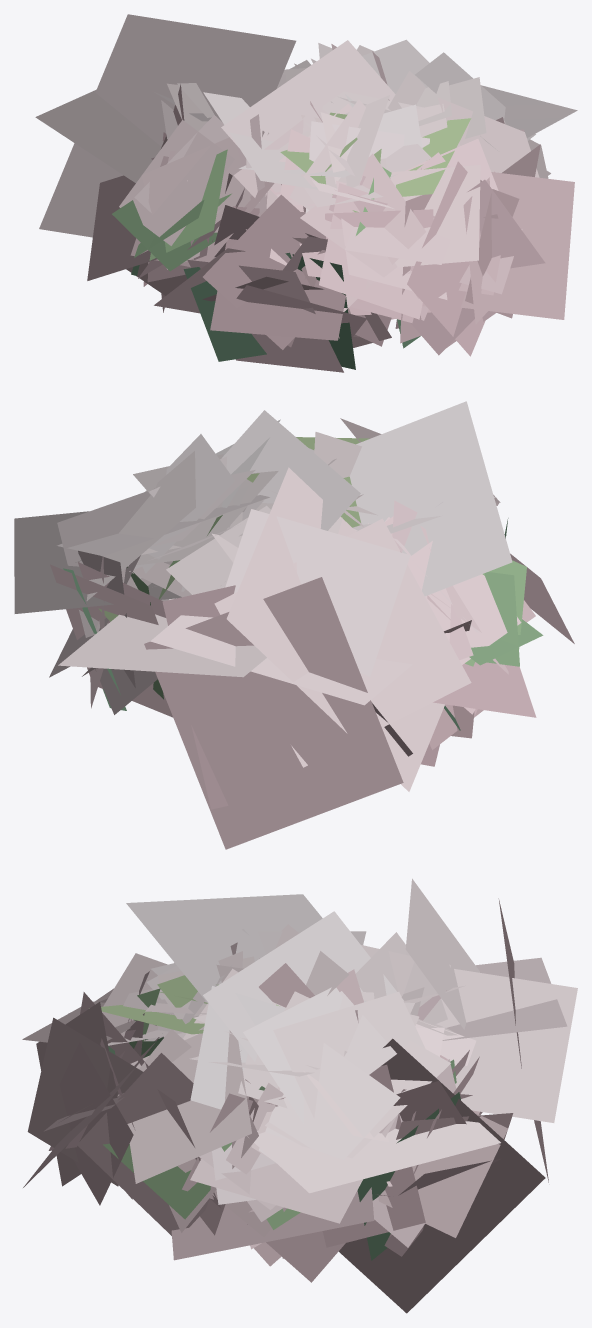
File: crab_apple_v3.glb
3 renders of one model, top to bottom at view 1: azimuth 30°, elevation 25°; view 2: azimuth 150°, elevation 25°; view 3: azimuth 270°, elevation 25°, orthographic. The views are drawn at different scales.
Visible parts, largest first — view 1: near, far; view 2: far, near; view 3: near, far.
Part boxes in pixels (x1,y1,x2,y2): near: (87, 39, 574, 372); far: (35, 14, 577, 312); far: (14, 401, 512, 849); near: (49, 418, 574, 749); near: (22, 929, 513, 1260); far: (126, 878, 577, 1313).
Size of the model in its own units: 13.21 by 7.82 by 12.85.
